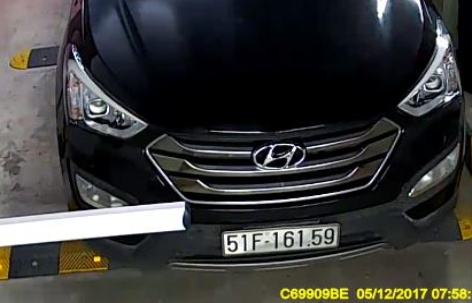plate: (214, 217, 357, 262)
